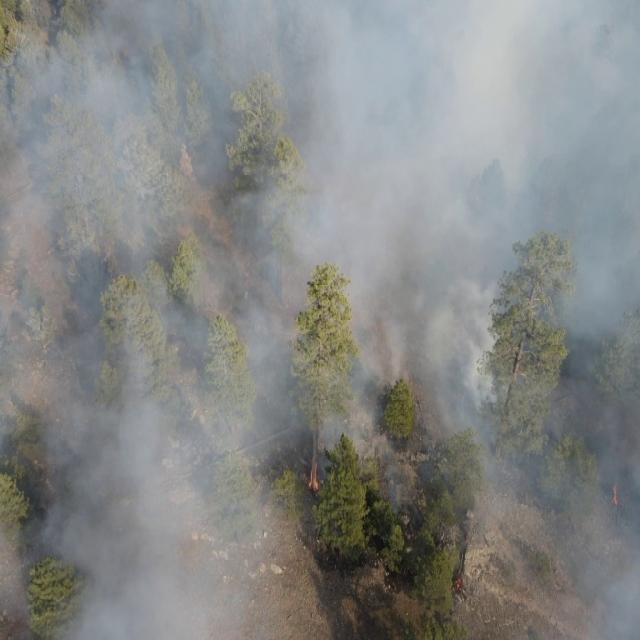fire: (454, 530, 474, 590), (304, 458, 320, 494), (610, 482, 620, 507)
smoke: (0, 0, 640, 640)
